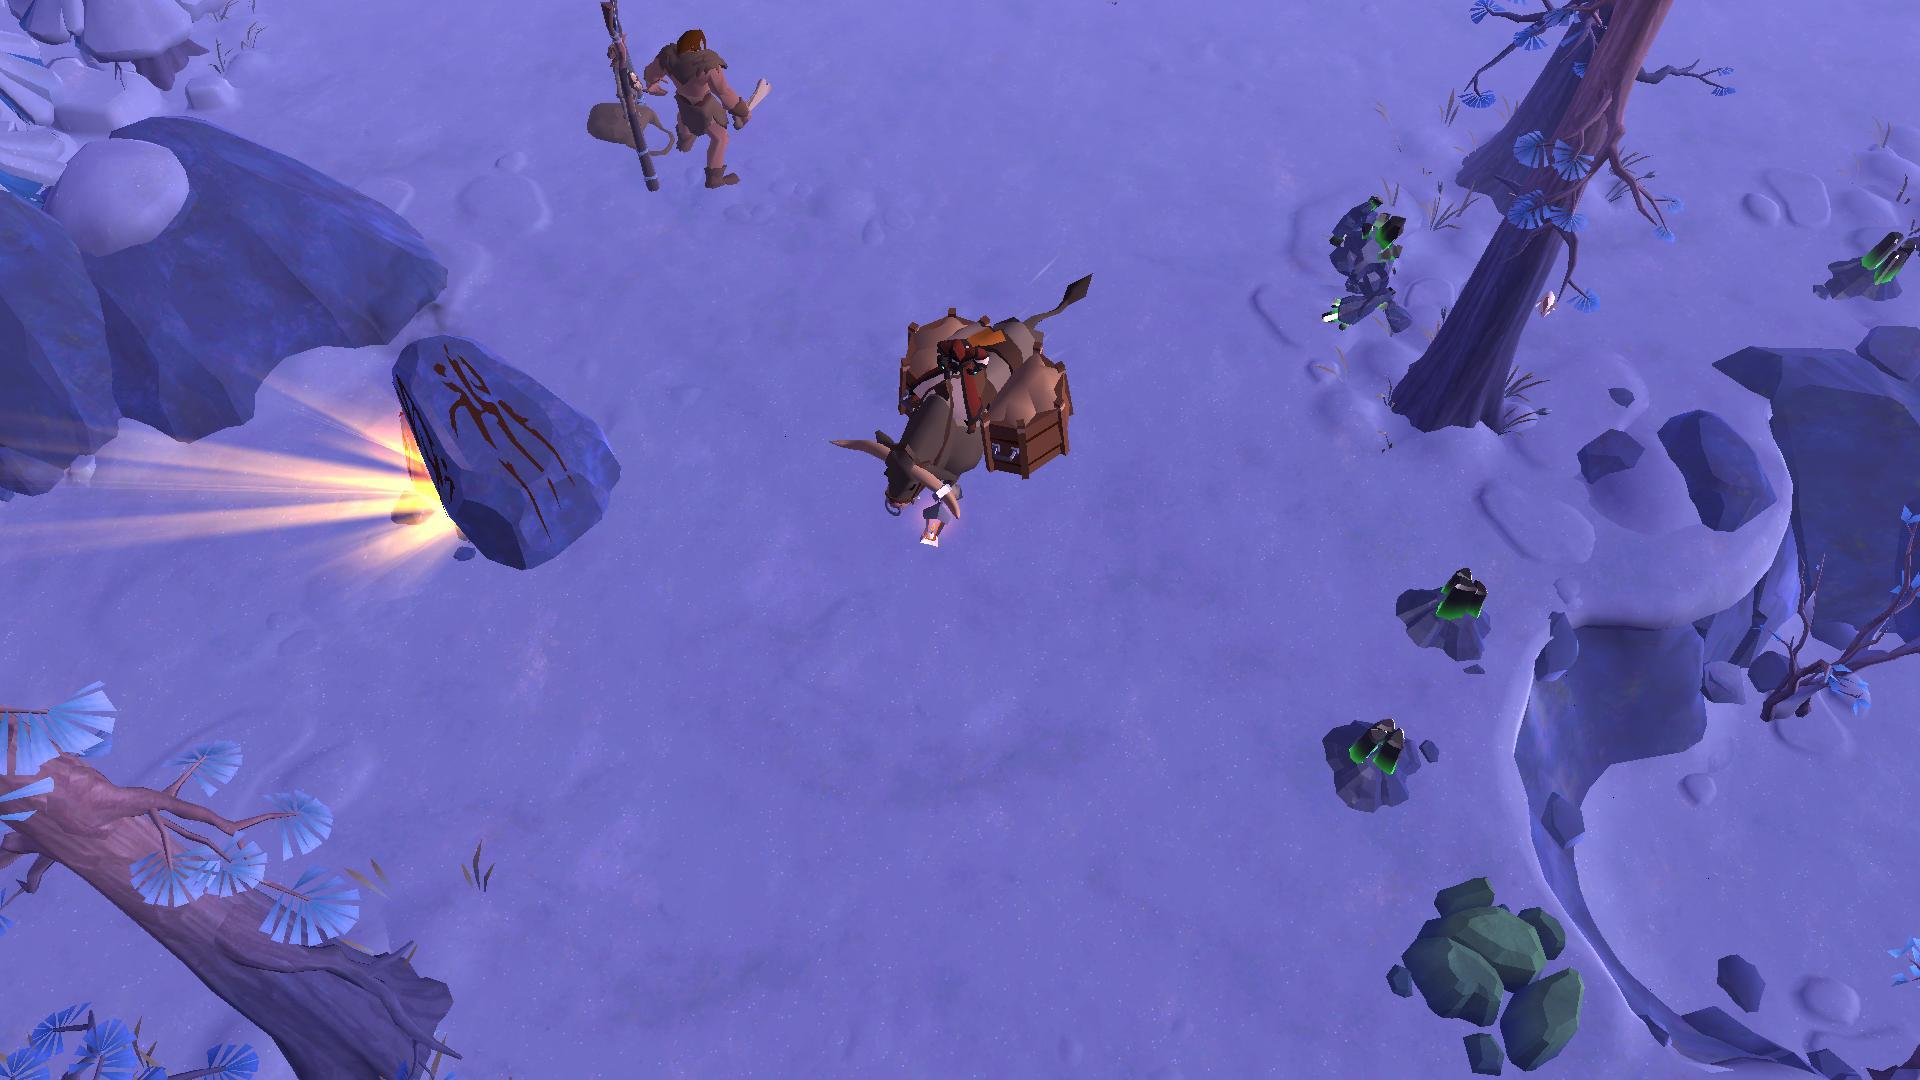enemy_factionKeeper: (646, 18, 782, 194)
ore_t3: (1341, 711, 1411, 782), (1429, 560, 1497, 625), (1861, 224, 1920, 289)
rock_t3: (1379, 866, 1589, 1080)
